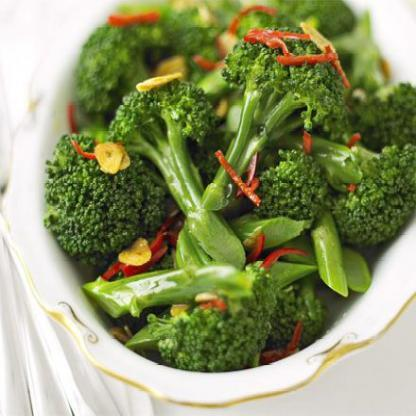broccoli: (40, 0, 415, 374)
